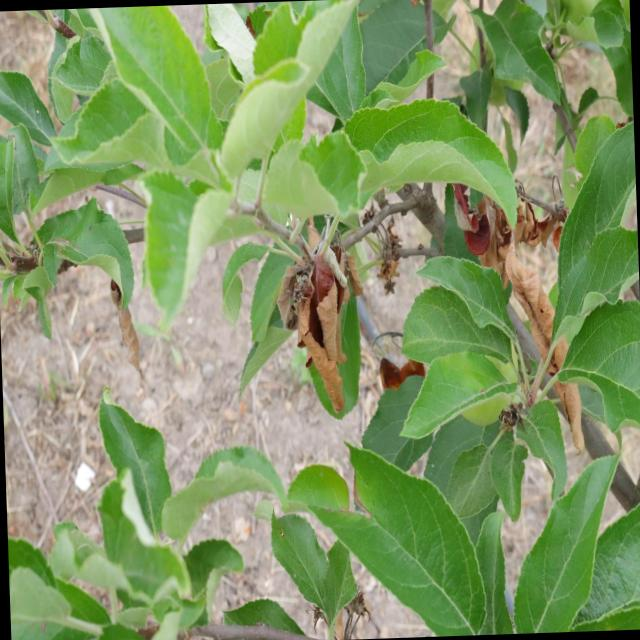-FireBlight-: (262, 238, 349, 414), (506, 259, 584, 446), (455, 181, 561, 261)
